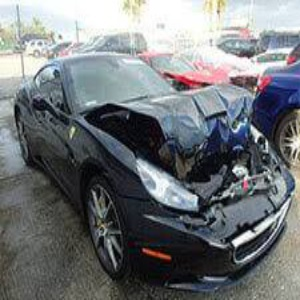bonnet: (130, 78, 256, 156)
